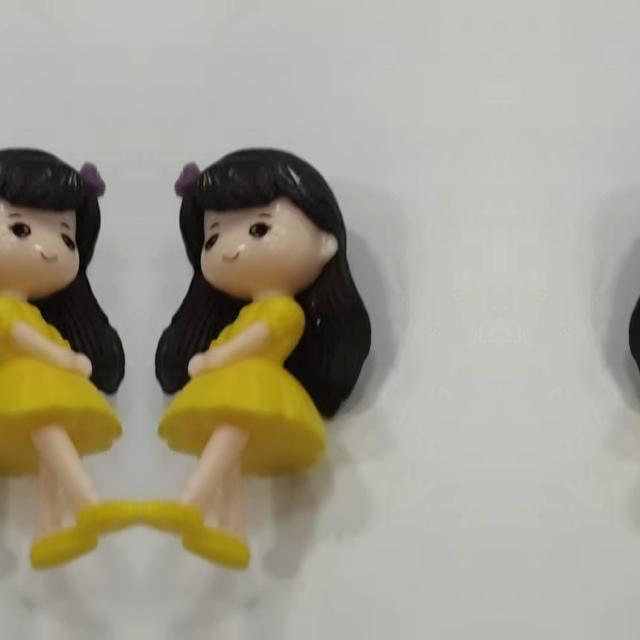woman dress: (167, 310, 339, 590), (0, 309, 113, 590)
woman head: (166, 148, 370, 306), (0, 148, 114, 306), (629, 148, 640, 306)
